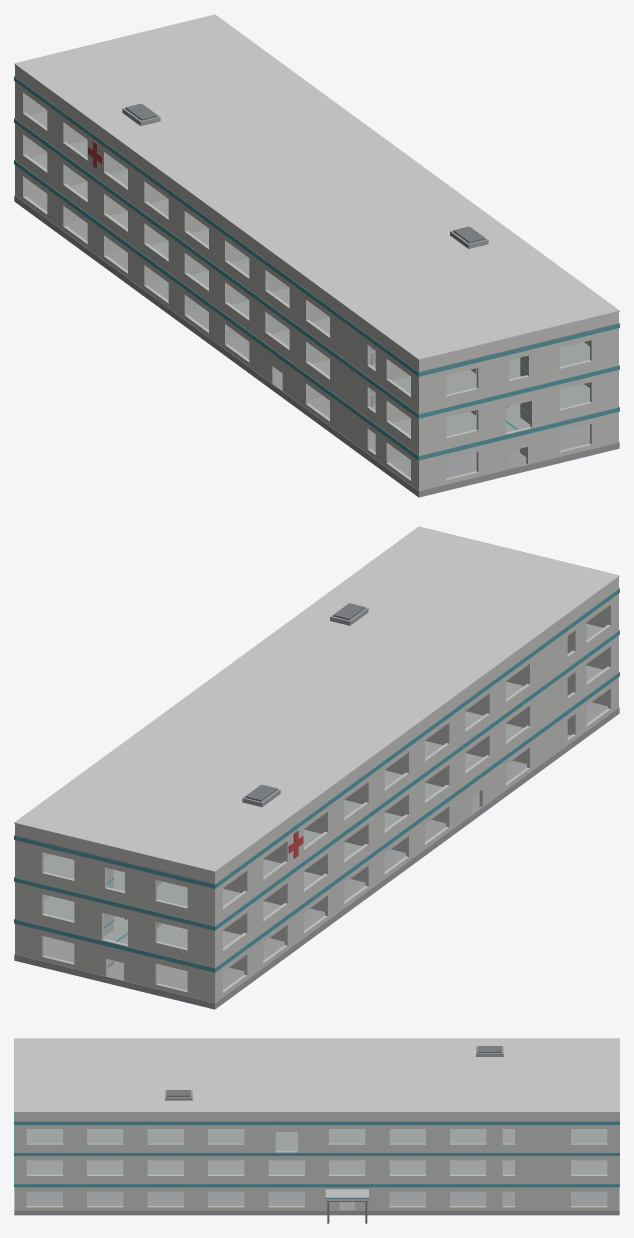
The model's file is hosp-west.zfix-v5.lod0.glb.
3 views of the same model, one above another, from view 1: azimuth 30°, elevation 25°; view 2: azimuth 150°, elevation 25°; view 3: azimuth 270°, elevation 25° (orthographic). The views are drawn at different scales.
Visible parts, largest first — view 1: hosp-west; view 2: hosp-west; view 3: hosp-west.
Boxes of the visible parts, x1,y1,x2,y2 form: hosp-west: (14, 14, 619, 497); hosp-west: (14, 526, 619, 1009); hosp-west: (14, 1038, 619, 1223).
Size of the model in its own units: 22.69 by 13.78 by 70.12.
